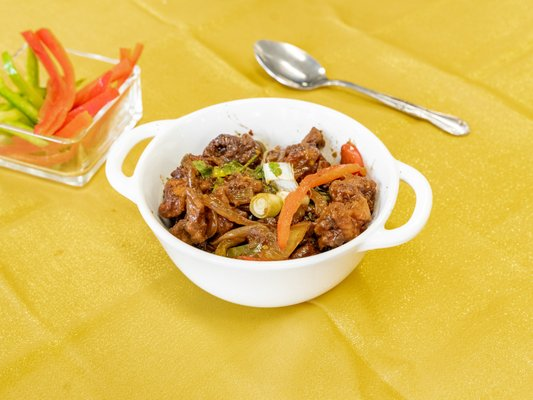salad: (254, 39, 470, 138)
sushi: (106, 97, 431, 308), (0, 25, 144, 188)
